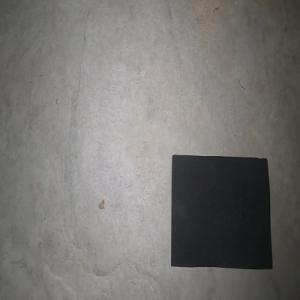PaintChip: (171, 154, 272, 269)
